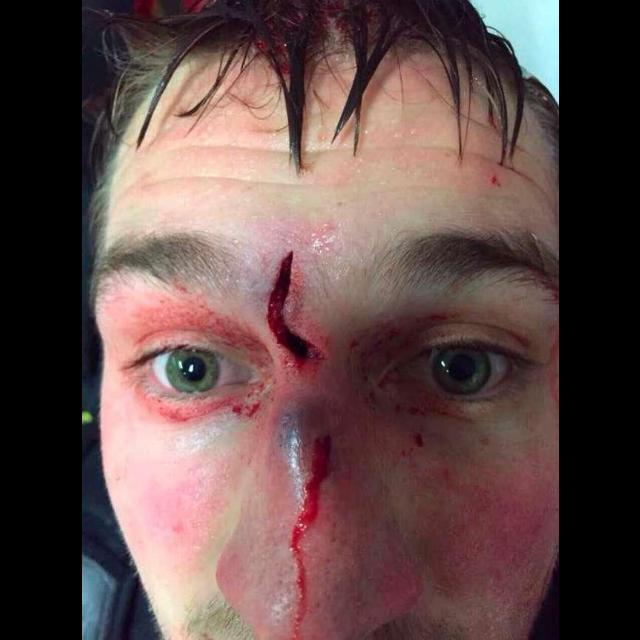blood: (129, 293, 271, 434), (271, 403, 353, 640), (169, 0, 371, 83), (266, 251, 317, 359), (266, 251, 315, 359), (488, 166, 520, 189)
